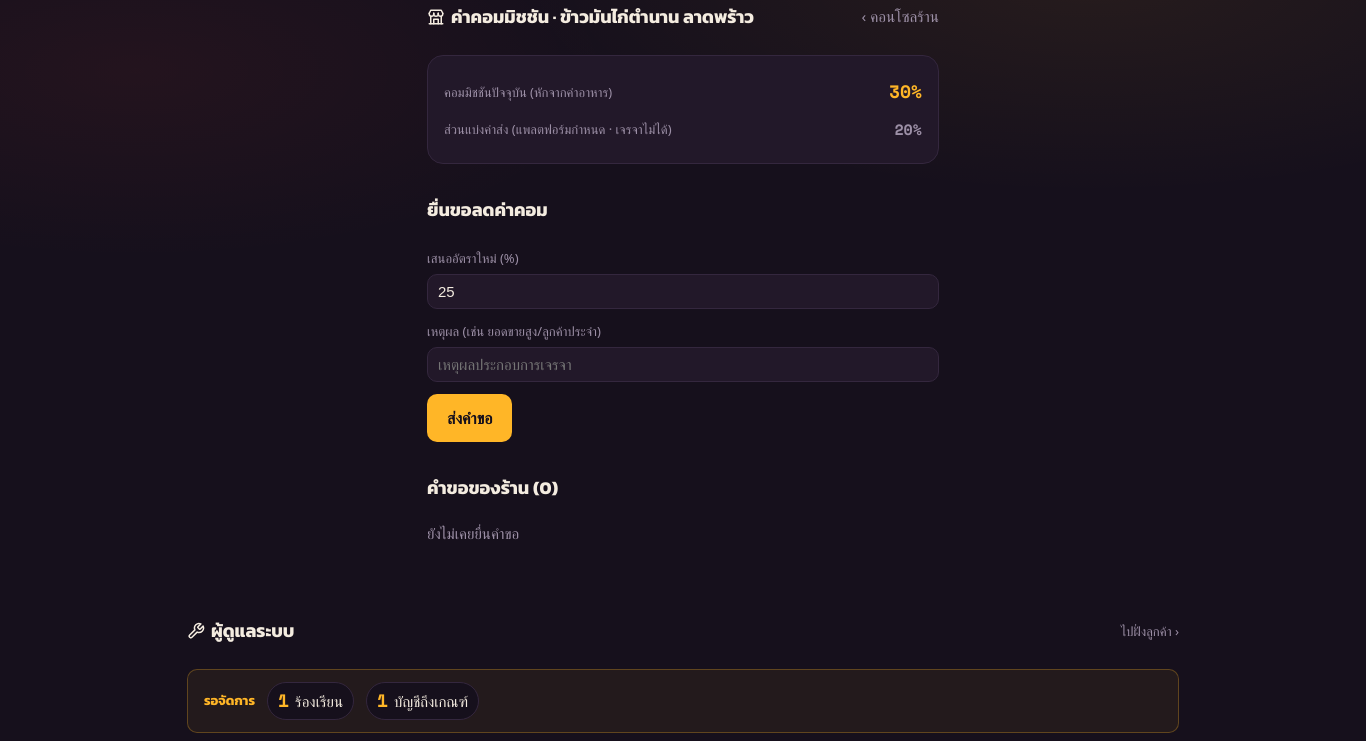
Test: MerchantRate — เจรจาอัตราคอมมิชชัน › end-to-end: ร้านยื่น → แอดมินอนุมัติ → อัตราของร้านลดลงจริง
This screenshot has width=1366, height=741.
Expected: the text with test id "current-commission" reads "30%", x1=889 y1=78 x2=922 y2=106
Click the button "ส่งคำขอ" at coordinates (470, 418), box x1=427 y1=394 x2=512 y2=442
(page scrolled)
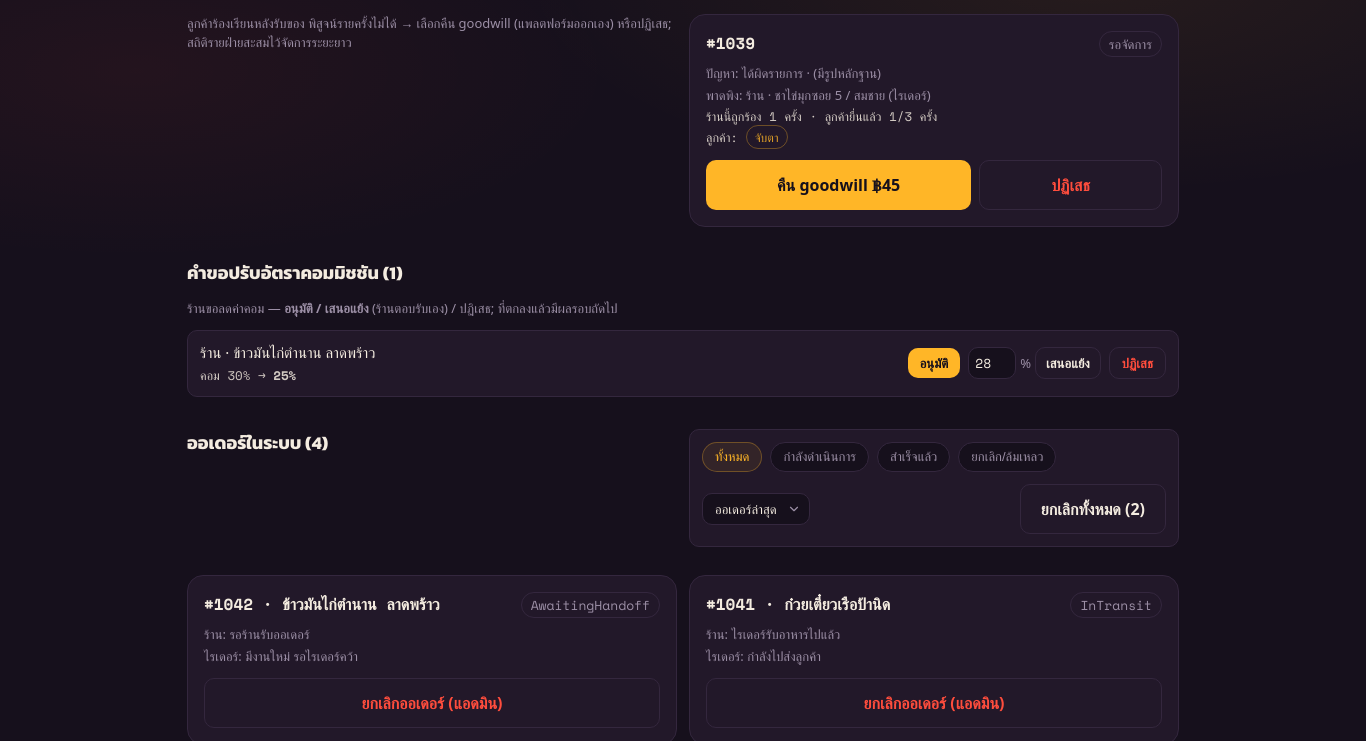
Click the button with aria-label "อนุมัติคำขอ" at coordinates (934, 363), box x1=908 y1=348 x2=960 y2=378
(page scrolled)
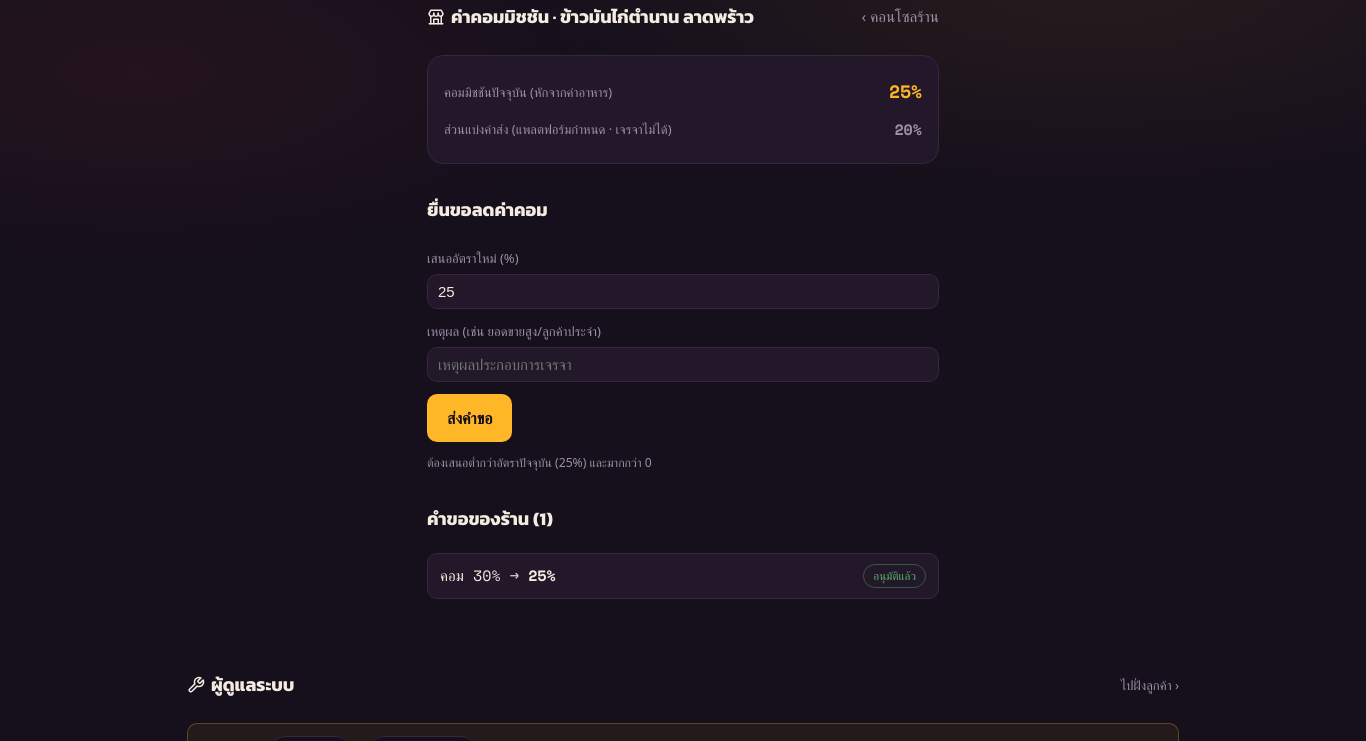
Now the text with test id "current-commission" reads "25%", box x1=889 y1=78 x2=922 y2=106
